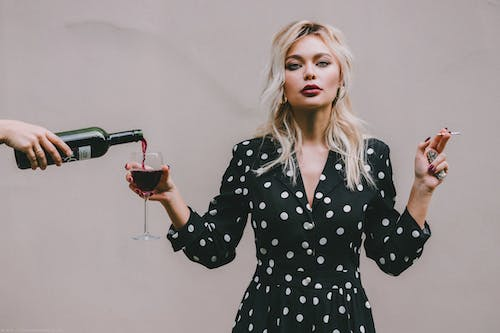alcohol: (13, 124, 144, 170), (125, 150, 169, 242)
cigarette: (435, 130, 460, 138)
